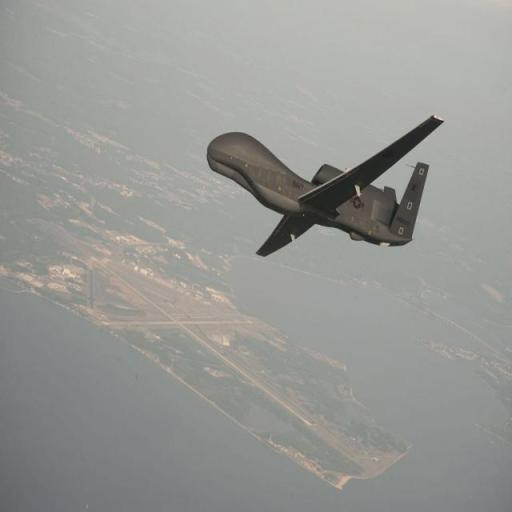uav: (207, 112, 446, 274)
